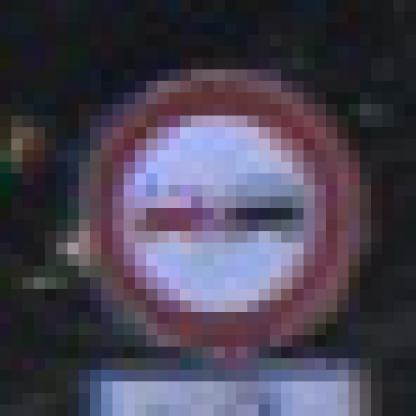No Overtaking: (69, 71, 350, 360)
